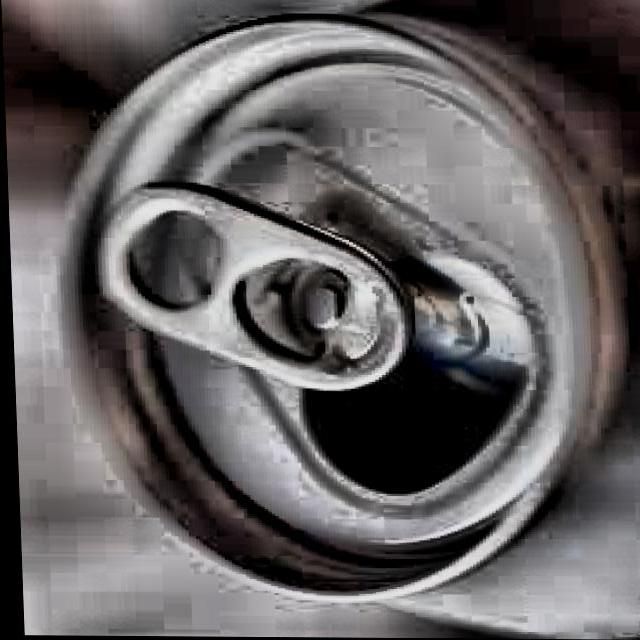litter: (37, 0, 640, 640)
